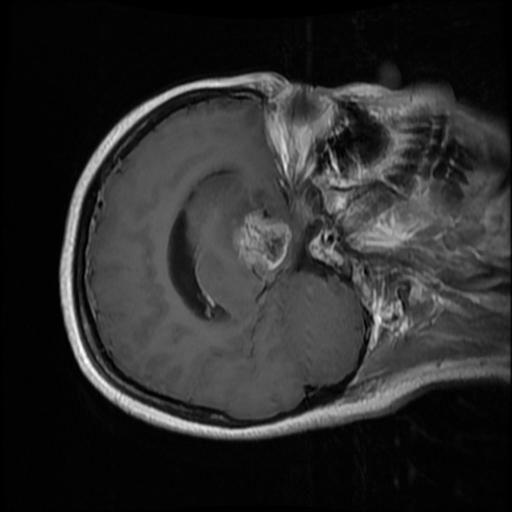glioma: (232, 209, 290, 272)
